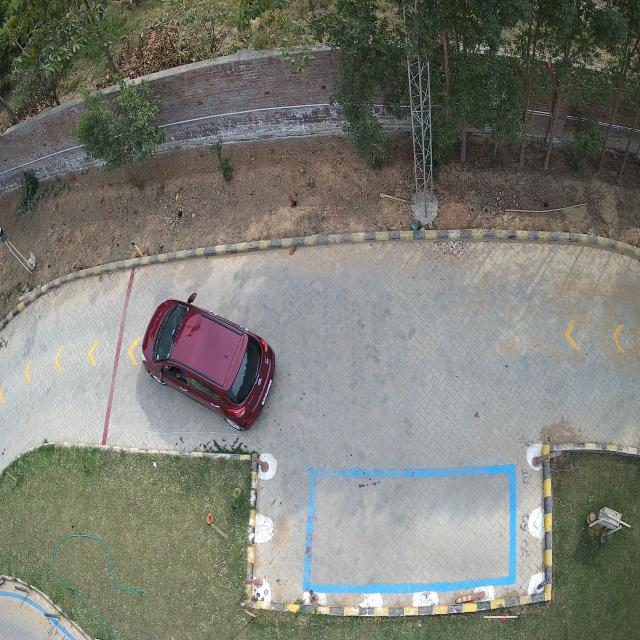car: (140, 300, 277, 431)
